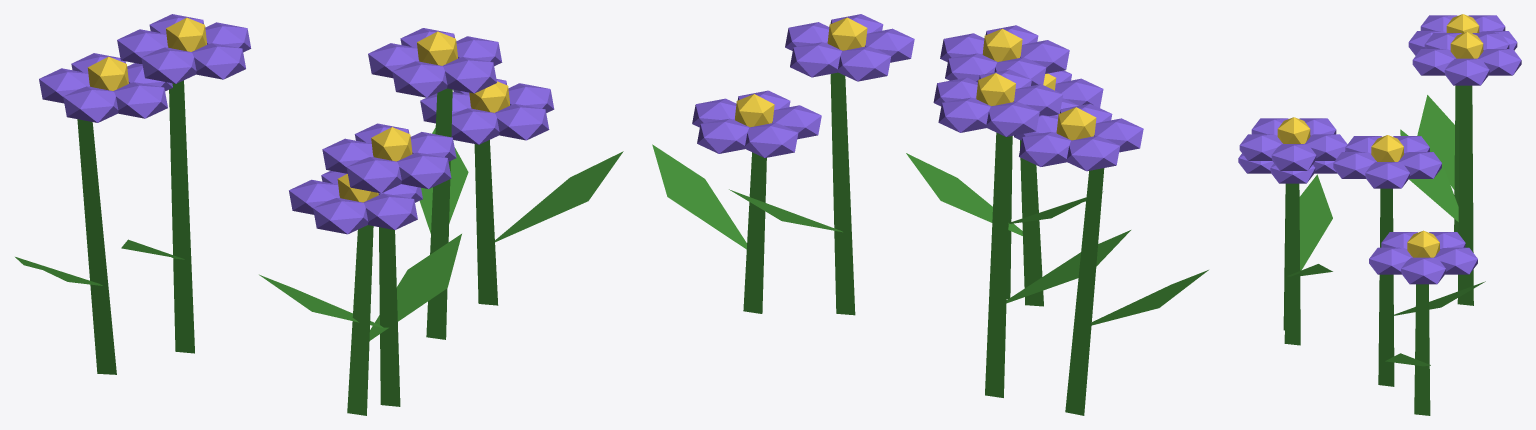
File: flowers2.glb
3 views of the same model, side by side, from view 1: azimuth 30°, elevation 25°; view 2: azimuth 150°, elevation 25°; view 3: azimuth 270°, elevation 25° (orthographic). The views are drawn at different scales.
Visible parts, largest first — view 1: flowers2; view 2: flowers2; view 3: flowers2.
Boxes of the visible parts, x1=… form: flowers2: x1=15, y1=14, x2=623, y2=415; flowers2: x1=652, y1=14, x2=1208, y2=415; flowers2: x1=1238, y1=14, x2=1521, y2=415.
Size of the model in its own units: 1.16 by 0.6251 by 0.5891.
